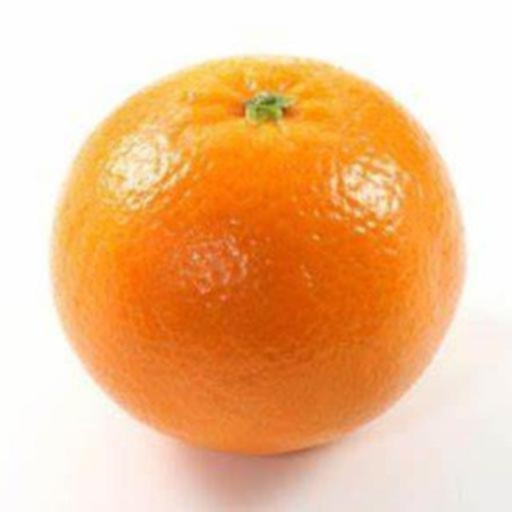fruit: (435, 122, 493, 435)
